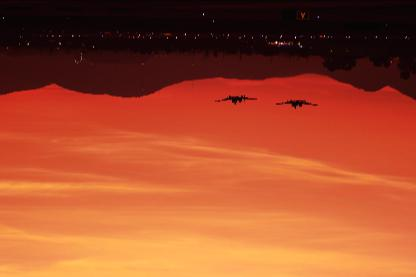A10: (216, 96, 258, 105), (276, 100, 318, 108)
